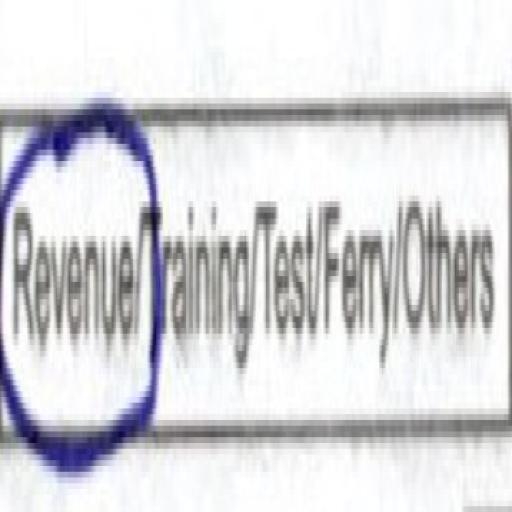check: (0, 76, 138, 482)
